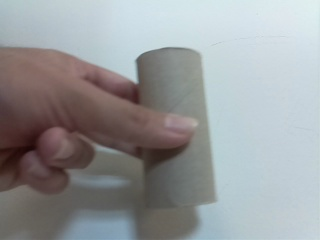rollo papel: (132, 43, 222, 209)
